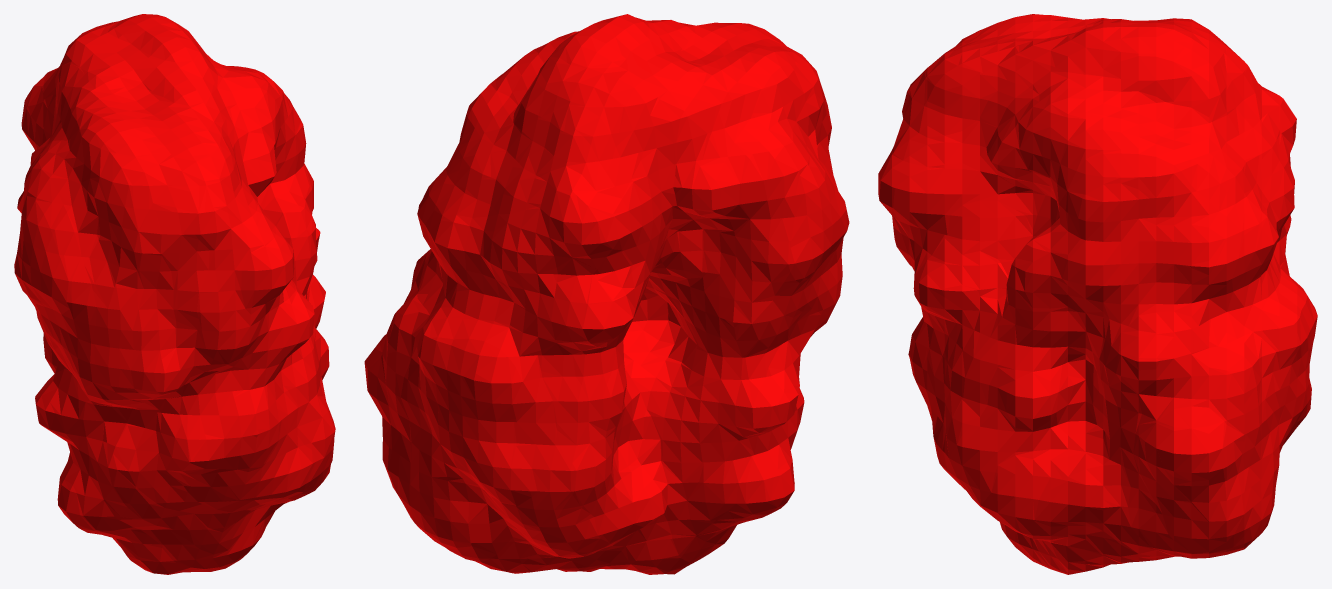
Rendered from gmhA_coarse.dae.
3 renders of one model, left to right at view 1: azimuth 30°, elevation 25°; view 2: azimuth 150°, elevation 25°; view 3: azimuth 270°, elevation 25°, orthographic. The views are drawn at different scales.
Parts seen in each view (by area): view 1: gmhA; view 2: gmhA; view 3: gmhA.
Part boxes in pixels (x1,y1,x2,y2): gmhA: [14, 14, 335, 574]; gmhA: [364, 14, 849, 574]; gmhA: [878, 14, 1317, 574].
Bounding box in the file's own units: 63.81 × 87.45 × 65.95.
